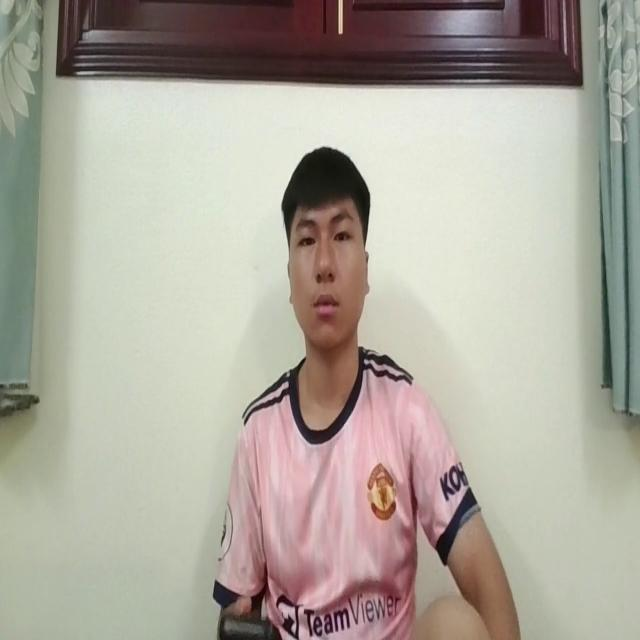student: (218, 137, 523, 640)
